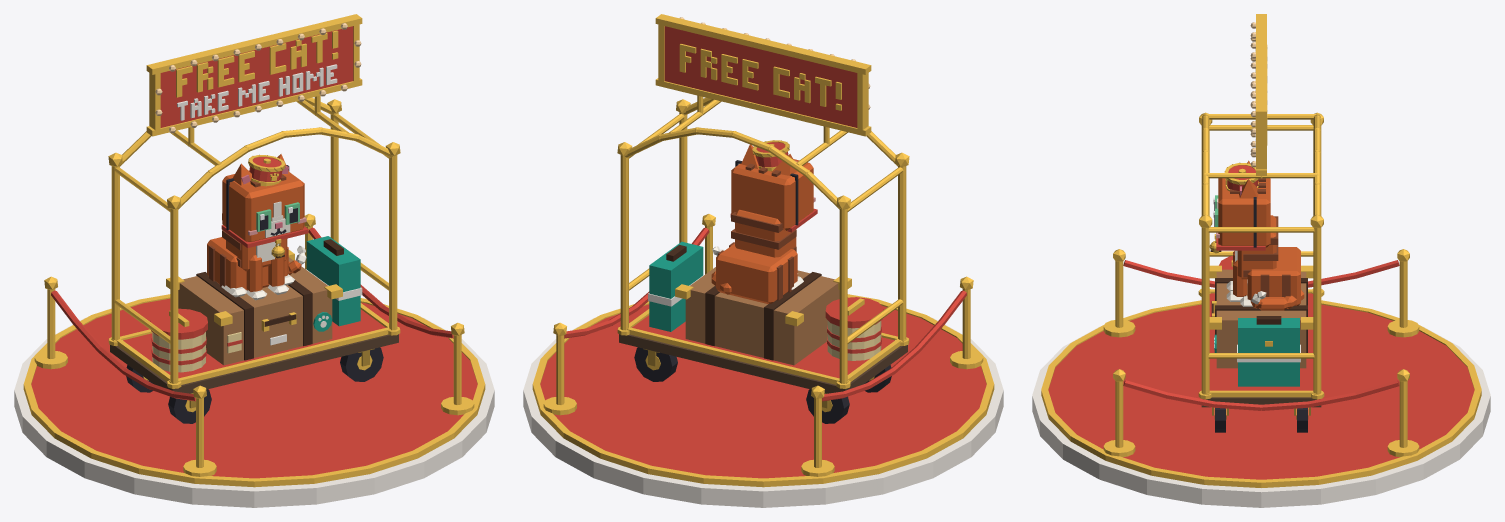
File: CatCafe_Street_BellhopStand.glb
3 views of the same model, side by side, from view 1: azimuth 30°, elevation 25°; view 2: azimuth 150°, elevation 25°; view 3: azimuth 270°, elevation 25° (orthographic). The views are drawn at different scales.
Parts seen in each view (by area): view 1: CatCafe_Street_BellhopStand, CatCafe_Street_BellhopStand_Cat_Head, CatCafe_Street_BellhopStand_Cat_Body, CatCafe_Street_BellhopStand_Bulbs, CatCafe_Street_BellhopStand_Cat_Prop, CatCafe_Street_BellhopStand_Cat_Prop2, CatCafe_Street_BellhopStand_Cat_LegF2, CatCafe_Street_BellhopStand_Cat_LegF1; view 2: CatCafe_Street_BellhopStand, CatCafe_Street_BellhopStand_Cat_Body, CatCafe_Street_BellhopStand_Cat_Head, CatCafe_Street_BellhopStand_Cat_Prop; view 3: CatCafe_Street_BellhopStand, CatCafe_Street_BellhopStand_Cat_Body, CatCafe_Street_BellhopStand_Cat_Head, CatCafe_Street_BellhopStand_Cat_Tail, CatCafe_Street_BellhopStand_Bulbs, CatCafe_Street_BellhopStand_Cat_Prop.
Part boxes in pixels (left/top/right/bottom): CatCafe_Street_BellhopStand: left=14, top=14, right=494, bottom=507; CatCafe_Street_BellhopStand_Cat_Head: left=222, top=170, right=306, bottom=241; CatCafe_Street_BellhopStand_Cat_Body: left=207, top=213, right=294, bottom=297; CatCafe_Street_BellhopStand_Bulbs: left=155, top=23, right=361, bottom=133; CatCafe_Street_BellhopStand_Cat_Prop: left=248, top=154, right=285, bottom=186; CatCafe_Street_BellhopStand_Cat_Prop2: left=221, top=165, right=308, bottom=247; CatCafe_Street_BellhopStand_Cat_LegF2: left=246, top=255, right=266, bottom=300; CatCafe_Street_BellhopStand_Cat_LegF1: left=268, top=253, right=288, bottom=294; CatCafe_Street_BellhopStand: left=523, top=14, right=1003, bottom=507; CatCafe_Street_BellhopStand_Cat_Body: left=716, top=209, right=803, bottom=303; CatCafe_Street_BellhopStand_Cat_Head: left=731, top=159, right=815, bottom=230; CatCafe_Street_BellhopStand_Cat_Prop: left=752, top=140, right=789, bottom=171; CatCafe_Street_BellhopStand: left=1032, top=14, right=1490, bottom=507; CatCafe_Street_BellhopStand_Cat_Body: left=1235, top=215, right=1300, bottom=306; CatCafe_Street_BellhopStand_Cat_Head: left=1216, top=178, right=1270, bottom=247; CatCafe_Street_BellhopStand_Cat_Tail: left=1250, top=290, right=1304, bottom=310; CatCafe_Street_BellhopStand_Bulbs: left=1250, top=22, right=1255, bottom=167; CatCafe_Street_BellhopStand_Cat_Prop: left=1224, top=162, right=1258, bottom=191.
Size of the model in its own units: 9.2 by 7.72 by 9.2.
1 material, 1 textured.
